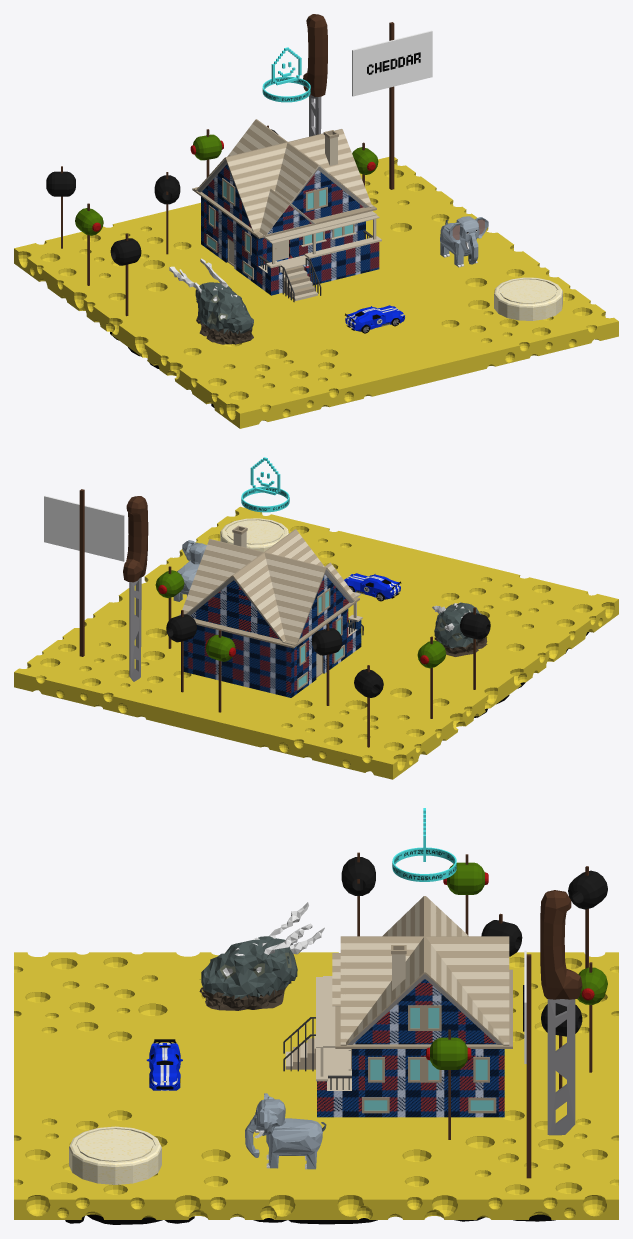
3 views of the same model, one above another, from view 1: azimuth 30°, elevation 25°; view 2: azimuth 150°, elevation 25°; view 3: azimuth 270°, elevation 25° (orthographic). The views are drawn at different scales.
Parts seen in each view (by area): view 1: Cube.022, Cube.171, Cube.023, OBJRANDOM_METEORITE, Cylinder.016, Cube.024, ANIMAL_ELEFANTE, VEHICLES_RACING_CAR, TYPE_PREMIUM, Sphere.017, Sphere.016, Sphere.020 (+3 smaller); view 2: Cube.022, Cube.171, Cube.023, Cube.024, OBJRANDOM_METEORITE, Cylinder.016, VEHICLES_RACING_CAR, TYPE_PREMIUM, Sphere.020, ANIMAL_ELEFANTE, Sphere.022, Sphere.017 (+4 smaller); view 3: Cube.022, Cube.171, OBJRANDOM_METEORITE, Cube.024, Cylinder.016, ANIMAL_ELEFANTE, Cube.023, VEHICLES_RACING_CAR, Sphere.019, Sphere.016, Sphere.018, TYPE_PREMIUM (+5 smaller).
Part boxes in pixels (x1,y1,x2,y2): Cube.022: (14,157,618,428); Cube.171: (192,119,381,302); Cube.023: (352,22,432,189); OBJRANDOM_METEORITE: (169,258,253,344); Cylinder.016: (494,277,562,320); Cube.024: (303,14,327,136); ANIMAL_ELEFANTE: (440,216,488,267); VEHICLES_RACING_CAR: (345,305,404,333); TYPE_PREMIUM: (262,47,310,102); Sphere.017: (110,233,141,316); Sphere.016: (46,166,75,248); Sphere.020: (154,172,180,254); Cube.022: (14,506,618,779); Cube.171: (178,525,363,697); Cube.023: (44,489,124,656); Cube.024: (123,496,148,681); OBJRANDOM_METEORITE: (432,602,487,656); Cylinder.016: (220,518,288,551); VEHICLES_RACING_CAR: (344,573,401,601); TYPE_PREMIUM: (241,457,289,512); Sphere.020: (311,623,342,705); ANIMAL_ELEFANTE: (173,540,206,601); Sphere.022: (205,630,235,712); Sphere.017: (460,607,490,689); Cube.022: (14,952,618,1219); Cube.171: (283,896,512,1117); OBJRANDOM_METEORITE: (199,902,324,1010); Cube.024: (540,890,582,1135); Cylinder.016: (69,1126,161,1184); ANIMAL_ELEFANTE: (245,1093,326,1169); Cube.023: (523,950,531,1178); VEHICLES_RACING_CAR: (146,1039,182,1090); Sphere.019: (426,1029,471,1139); Sphere.016: (568,866,607,968); Sphere.018: (443,854,488,934); TYPE_PREMIUM: (392,808,456,881).
Size of the model in its own units: 3917 by 2197 by 4000.
Materials: 37 (5 with a texture image).
